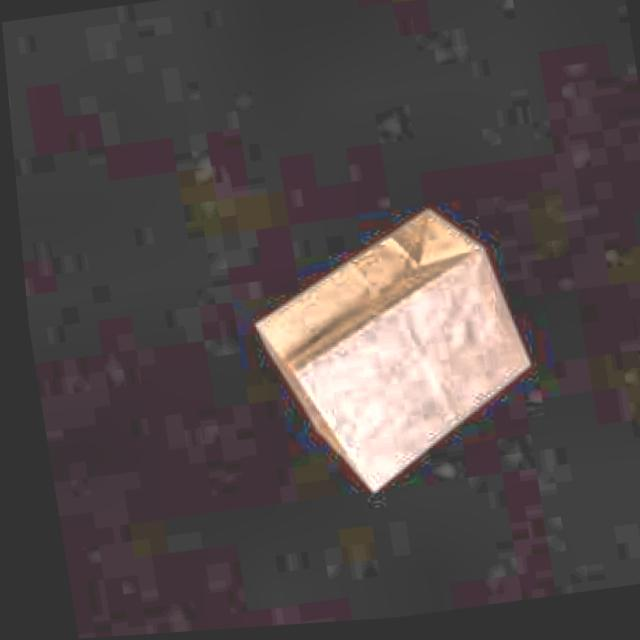Paper-bag: (221, 186, 548, 525)
